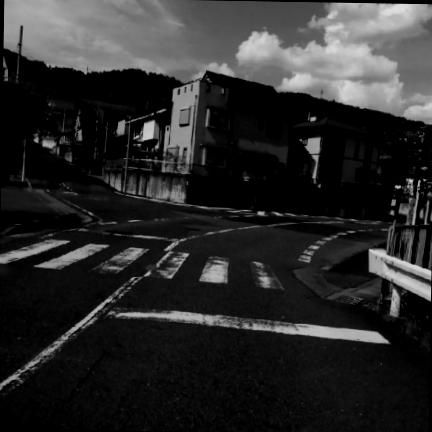Road: (0, 148, 429, 431)
